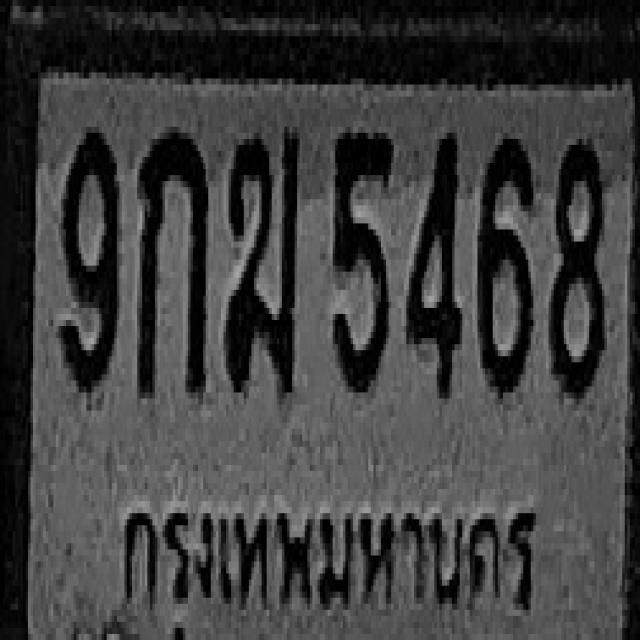10GorGai: (136, 130, 207, 395)
15KhorRaKhang: (225, 127, 301, 392)
4: (405, 127, 461, 398)
5: (332, 127, 392, 392)
6: (478, 133, 534, 392)
8: (550, 136, 603, 395)
9: (60, 127, 118, 392)
Bangkok: (109, 482, 544, 619)
